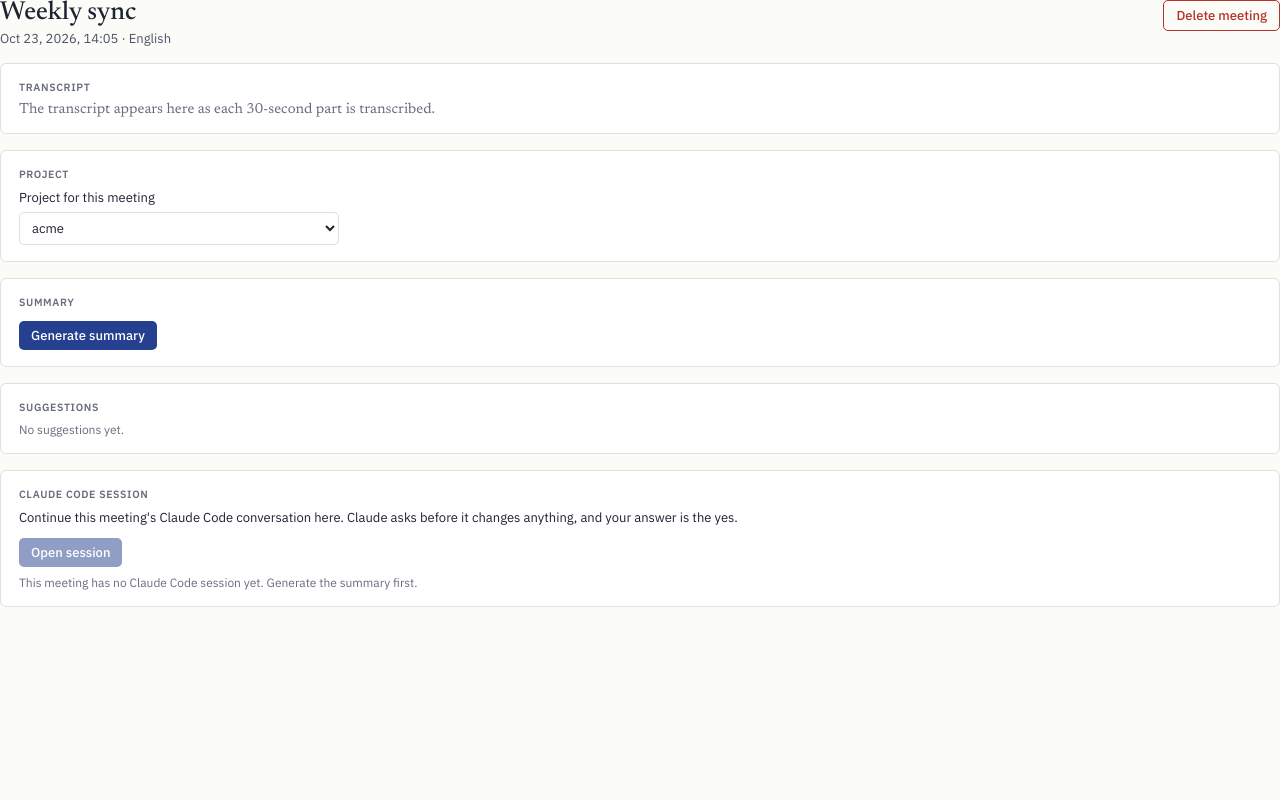
Test: a meeting saved to the archive says its folder there is not changed
The image size is (1280, 800).
expect the heading "Weekly sync" is shown: met, box [0,0,136,26]
Click the button "Delete meeting".
click(1222, 16)  # box [1163,0,1279,31]
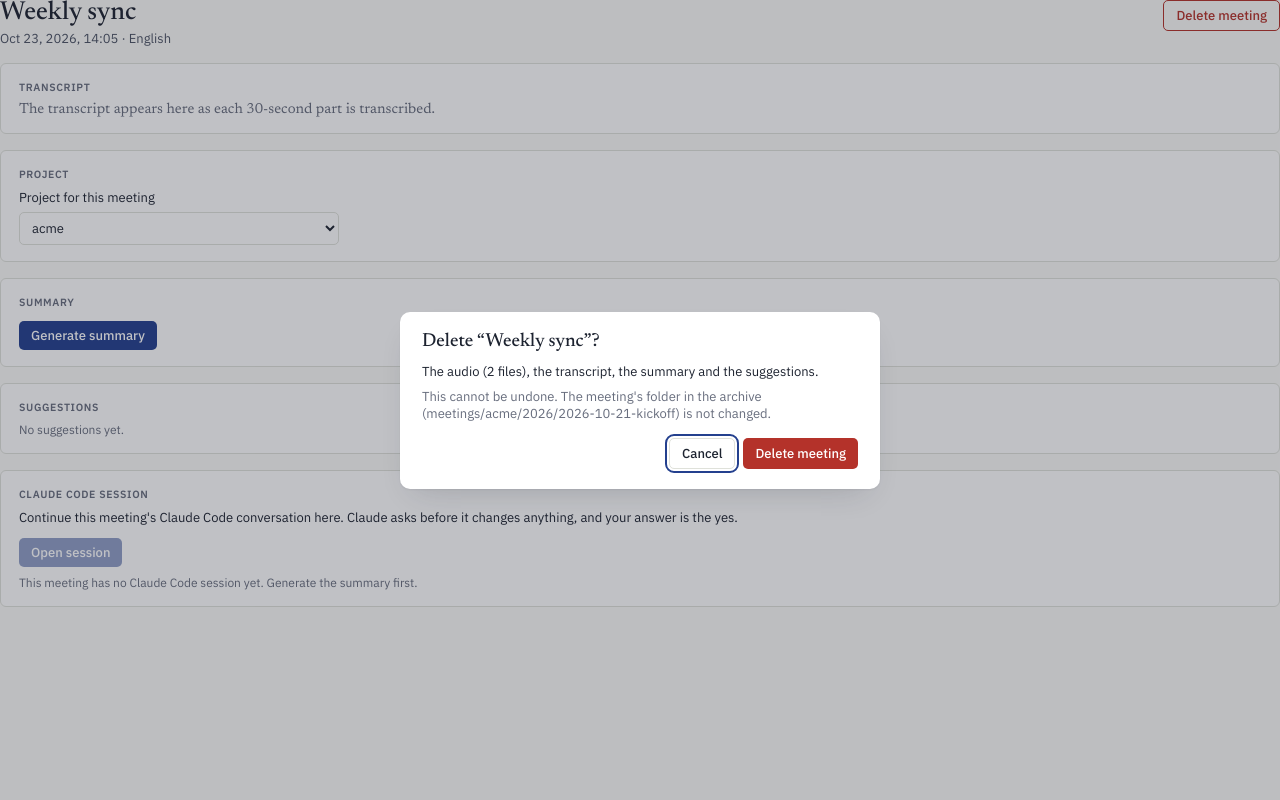
expect the text with class "nt-dialog__hint" shows "This cannot be undone. The meeting's folder in the archive (meetings/acme/2026/2026-10-21-kickoff) is not changed.": met, box [422,388,771,422]
